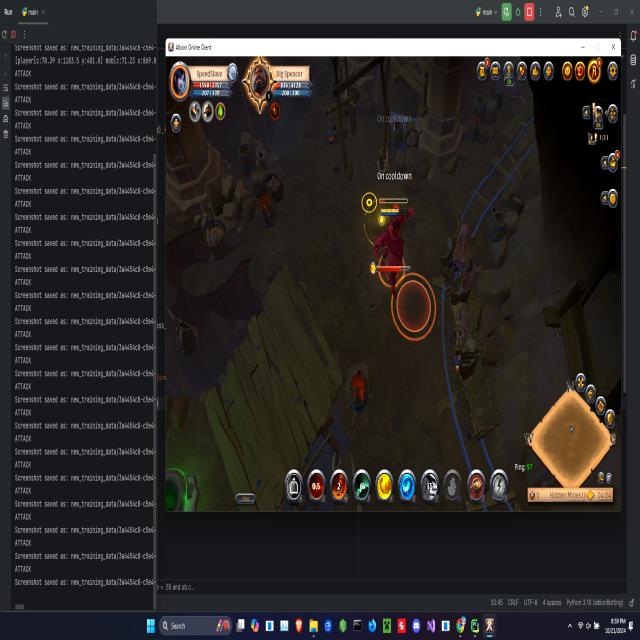ore: (371, 197, 415, 290)
red: (380, 208, 410, 223)
silver: (388, 269, 439, 344)
